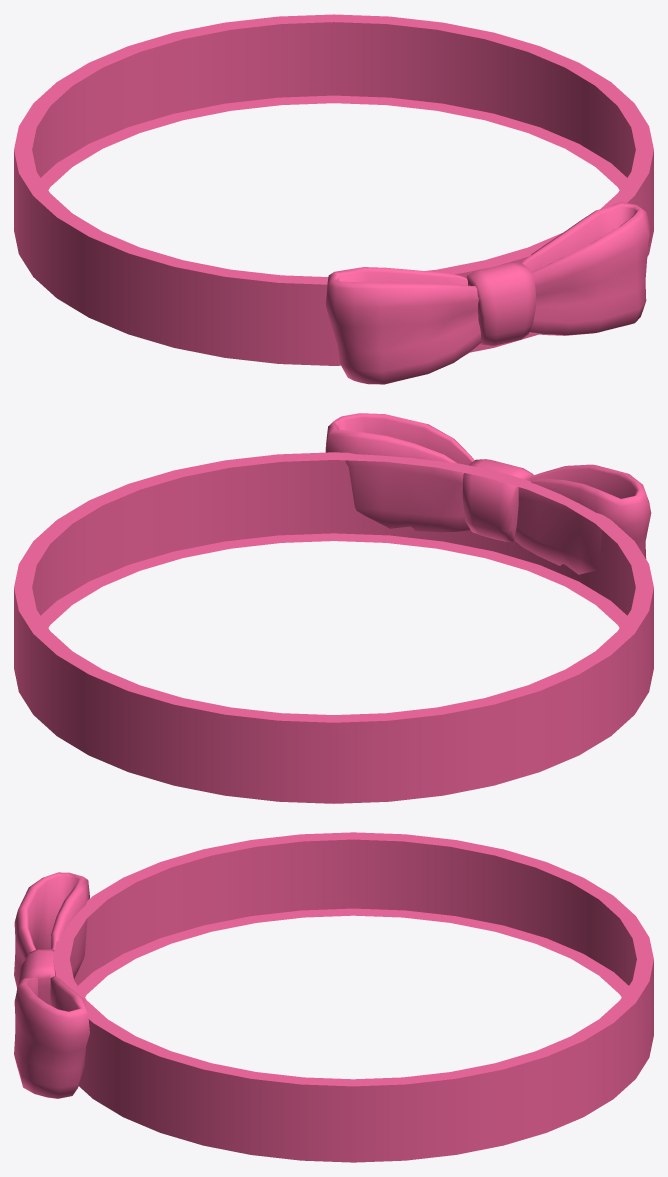
File: Cake_Med_itemsSide_BowRibbon-A.FBX
The picture shows the model from 3 angles, top to bottom: view 1: azimuth 30°, elevation 25°; view 2: azimuth 150°, elevation 25°; view 3: azimuth 270°, elevation 25°; orthographic projection. The views are drawn at different scales.
Visible parts, largest first — view 1: Cake_Med_itemsSide_BowRibbon-A; view 2: Cake_Med_itemsSide_BowRibbon-A; view 3: Cake_Med_itemsSide_BowRibbon-A.
Part boxes in pixels (x1,y1,x2,y2): Cake_Med_itemsSide_BowRibbon-A: [14, 14, 653, 384]; Cake_Med_itemsSide_BowRibbon-A: [14, 413, 653, 803]; Cake_Med_itemsSide_BowRibbon-A: [14, 832, 653, 1162].
Bounding box in the file's own units: 7765 × 1369 × 8267.
